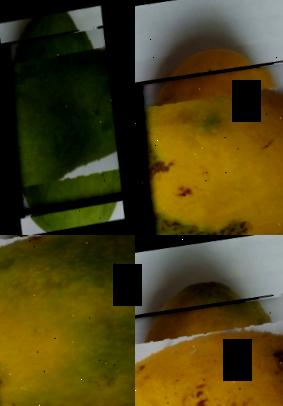PartiallyRipe: (0, 235, 135, 406)
Ripe: (135, 50, 283, 235), (135, 286, 283, 406)
Unripe: (0, 22, 131, 222)
